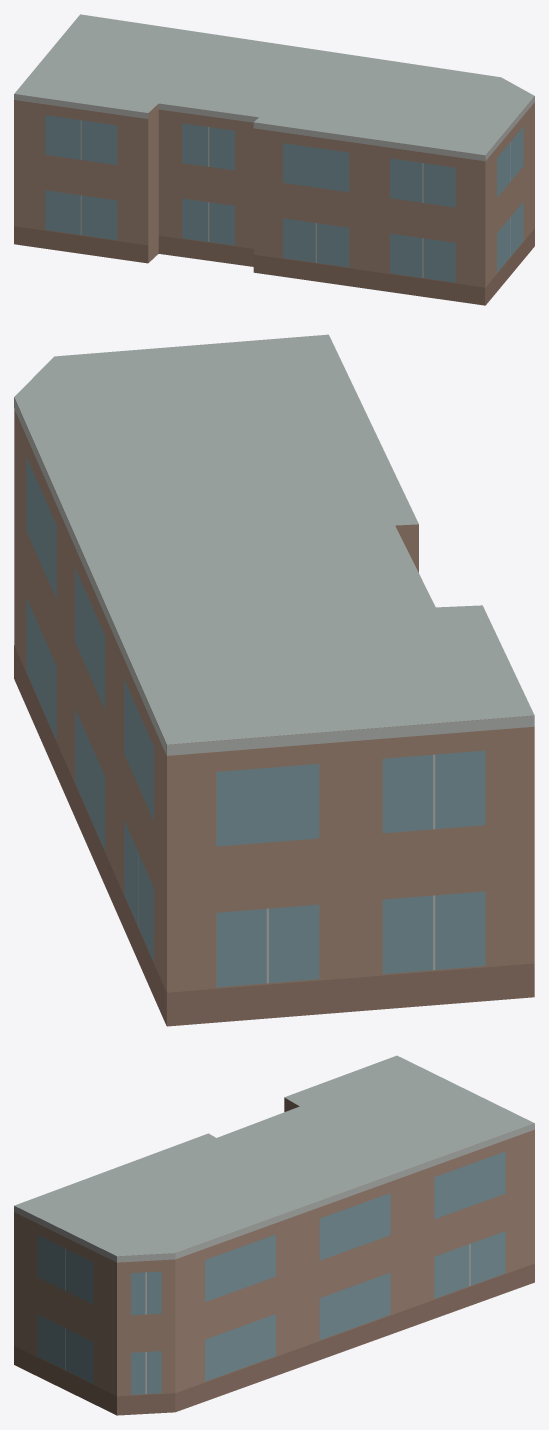
File: survey-upis-32888197.glb
The picture shows the model from 3 angles, top to bottom: view 1: azimuth 30°, elevation 25°; view 2: azimuth 150°, elevation 25°; view 3: azimuth 270°, elevation 25°; orthographic projection. The views are drawn at different scales.
Parts seen in each view (by area): view 1: survey-upis-32888197.tmp; view 2: survey-upis-32888197.tmp; view 3: survey-upis-32888197.tmp.
Boxes of the visible parts, bbox=[...] form: survey-upis-32888197.tmp: bbox=[14, 14, 534, 305]; survey-upis-32888197.tmp: bbox=[14, 334, 534, 1026]; survey-upis-32888197.tmp: bbox=[14, 1055, 534, 1415].
Size of the model in its own units: 16.51 by 6.1 by 18.09.
